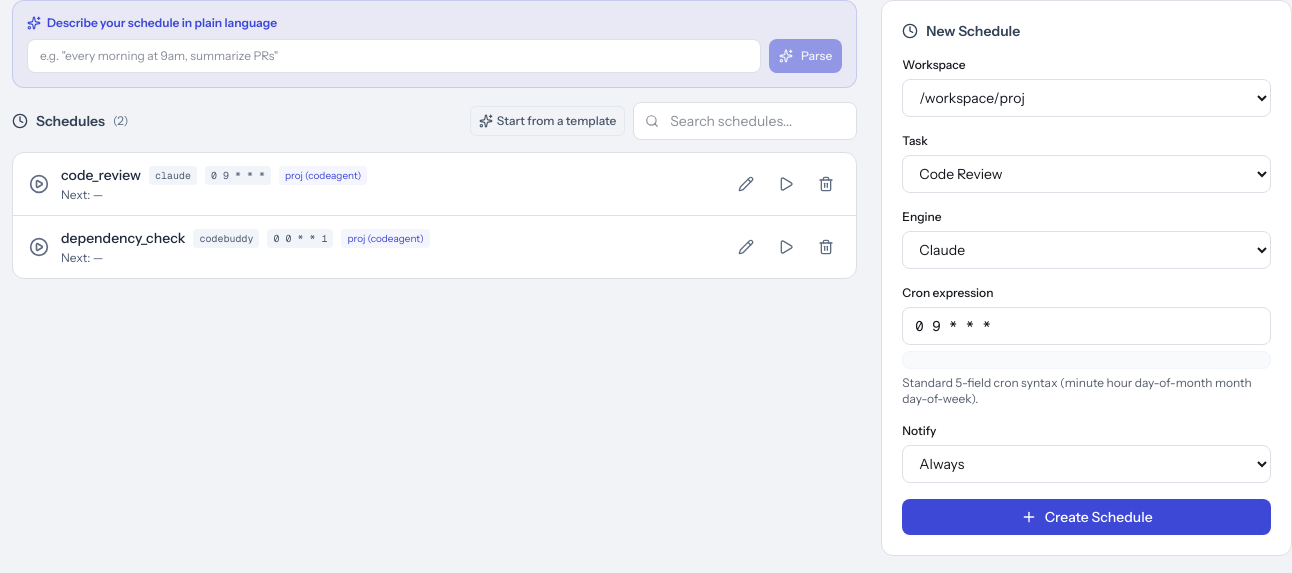
Test: CronPage schedule search › shows an empty state when no schedule matches
The image size is (1292, 573).
Expected: the text "code_review" is shown, [61,165,141,185]
Type "nonexistent" into the field labelled "Search schedules" at (745, 121), box [633,102,857,140]
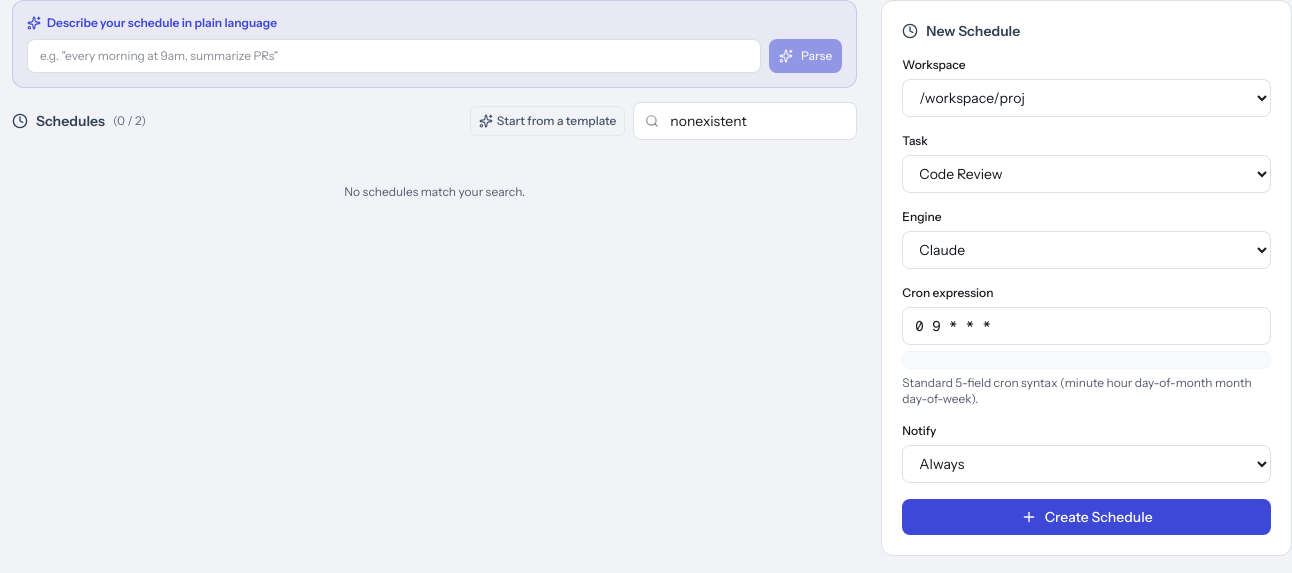
Expected: the text "No schedules match your search." is shown, [344,184,525,200]
